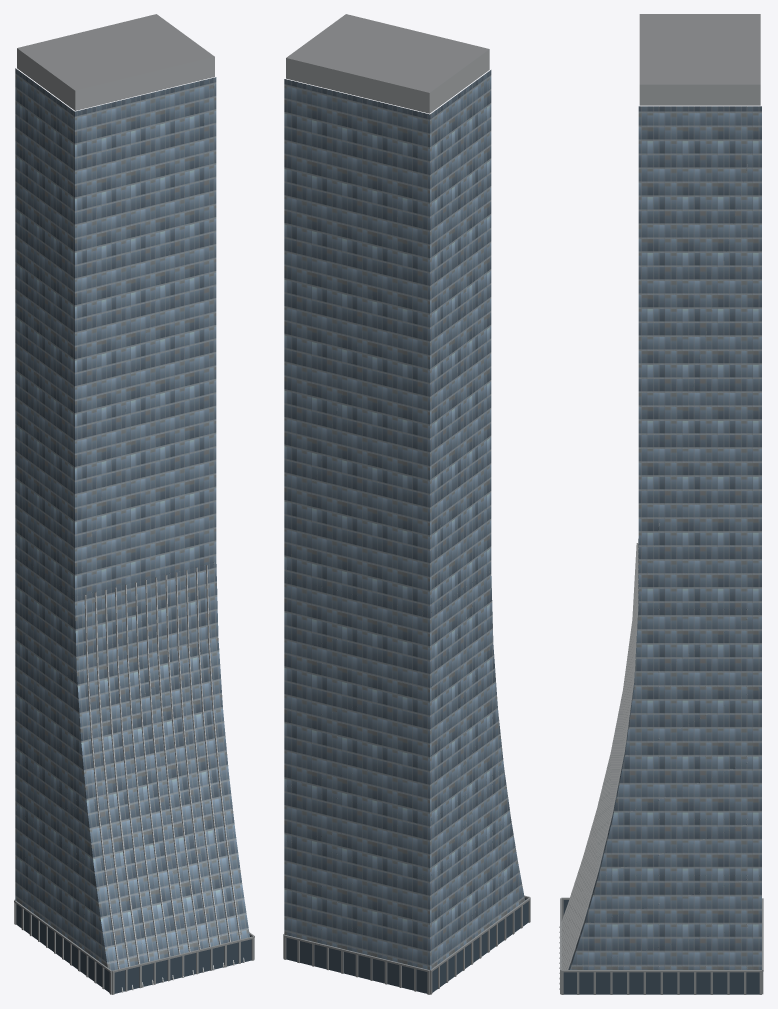
The model's file is rainier_square_tower.glb.
3 views of the same model, side by side, from view 1: azimuth 30°, elevation 25°; view 2: azimuth 150°, elevation 25°; view 3: azimuth 270°, elevation 25° (orthographic). The views are drawn at different scales.
Parts seen in each view (by area): view 1: rainier_square_tower; view 2: rainier_square_tower; view 3: rainier_square_tower.
Boxes of the visible parts, left/top/right/bottom form: rainier_square_tower: left=14, top=14, right=254, bottom=994; rainier_square_tower: left=283, top=14, right=530, bottom=994; rainier_square_tower: left=559, top=14, right=763, bottom=994.
Bounding box in the file's own units: 44.78 × 260 × 52.91.
2 materials, 2 textured.
